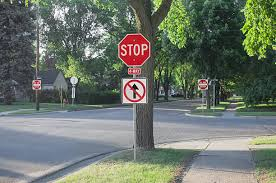stop sign: (118, 33, 151, 68)
